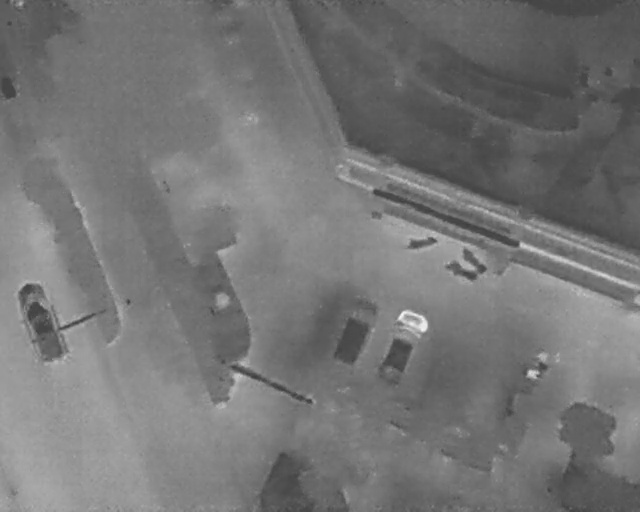Bicycle: (439, 253, 481, 287), (455, 243, 491, 278), (402, 231, 440, 253)
Car: (10, 275, 72, 369), (368, 303, 433, 391), (327, 287, 386, 370)
Person: (524, 366, 541, 382), (537, 349, 549, 365)
